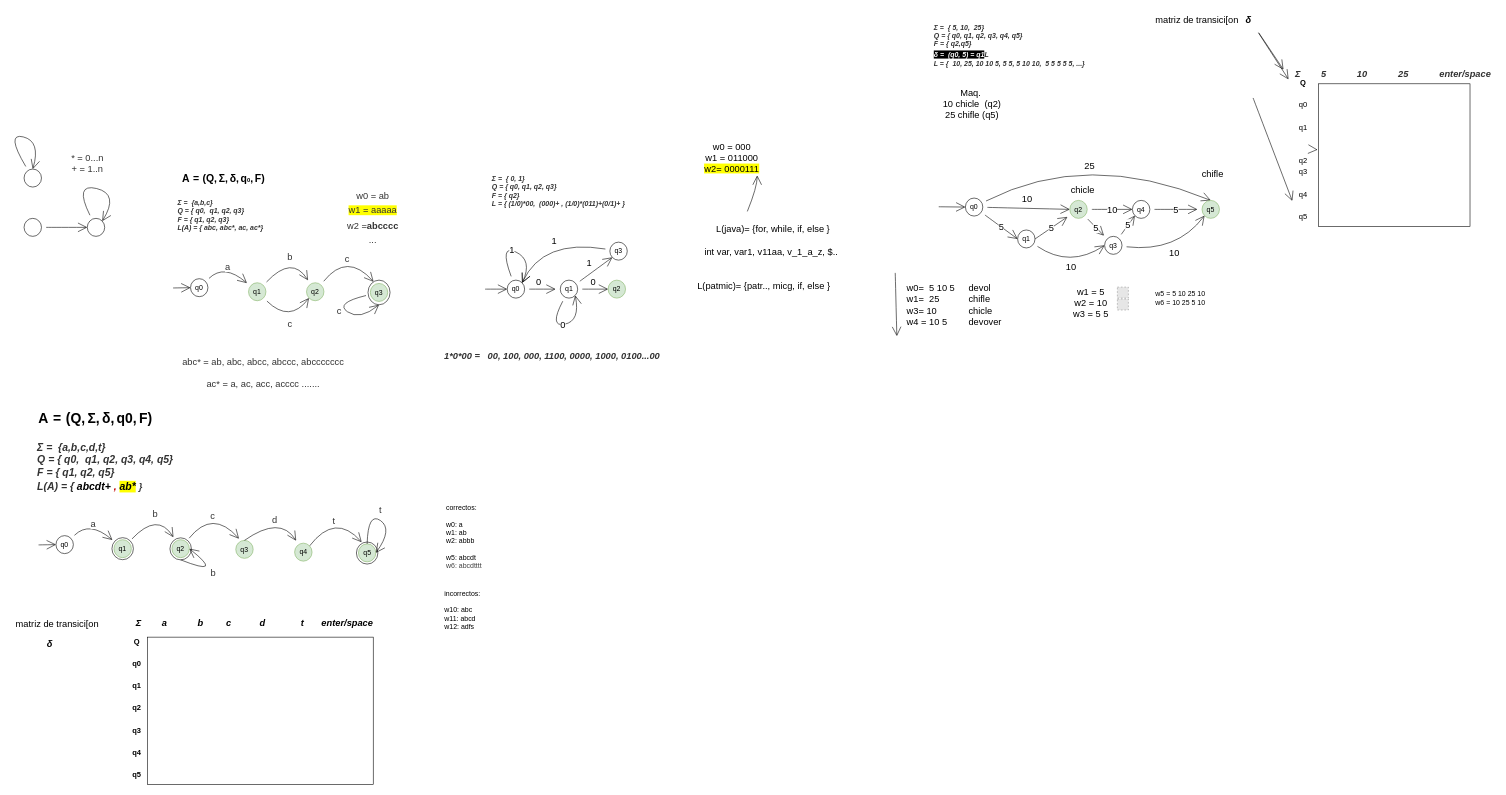
The diagram is 1506 pixels wide and 795 high, and some of its shapes have lost their labels. Grey dashed boxes stand in for pictures. The box of each missing label's shape, as (x1, y1, x2, y2) in pixels:
1 - - - - - - 2 - - - ok - 2 3 - - ok - - - 4 - - - - - - 5 - - - - - 5 ok: (147, 637, 373, 784)
1 2 5 error 2 3 e e 3 4 e chicle 4 5 e e. 5 e e e e e e chifle: (1318, 83, 1470, 226)
